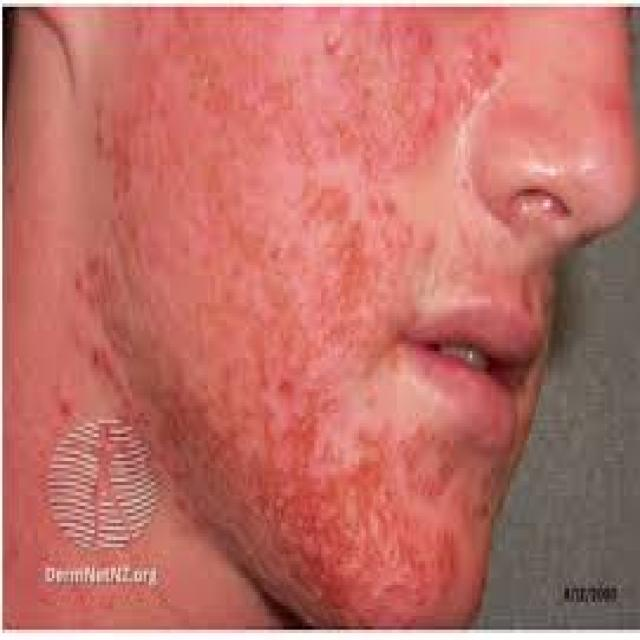Eczema: (114, 24, 359, 420), (225, 466, 465, 600)
